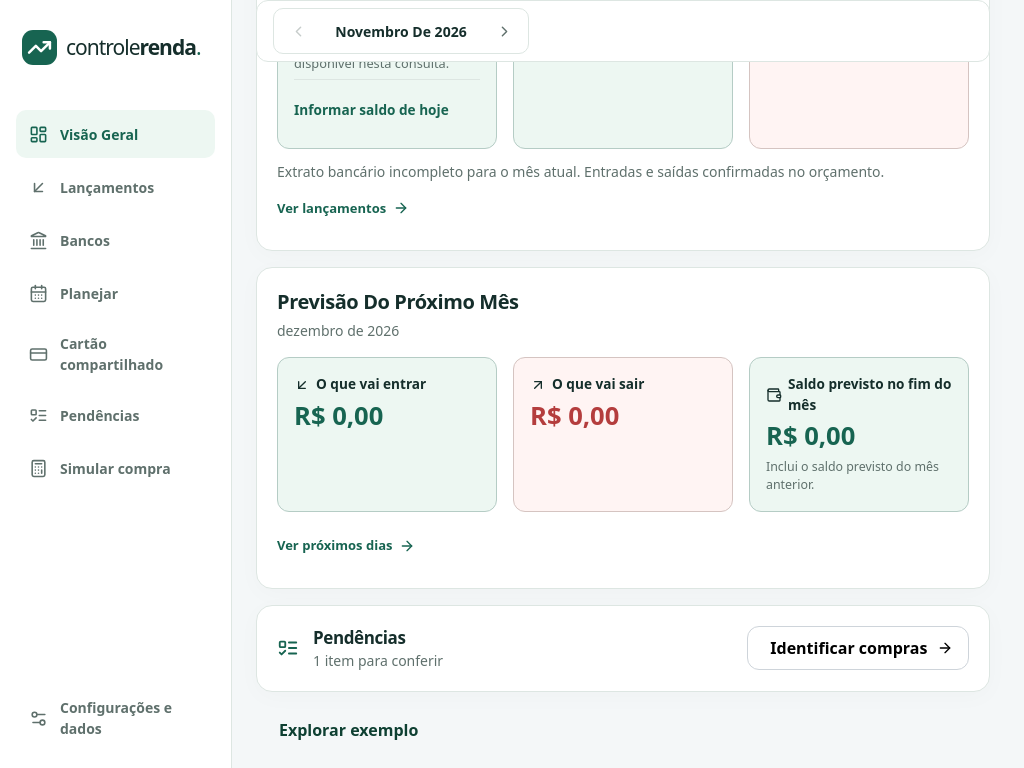
Test: reúne compras conectadas sem responsável e atualiza a contagem depois de salvar
(page scrolled)
Expected: the text "1 item para conferir" is shown, [313,651,443,670]
Click the button "Identificar compras". click: (858, 648)
box: [747,626,969,670]
(page scrolled)
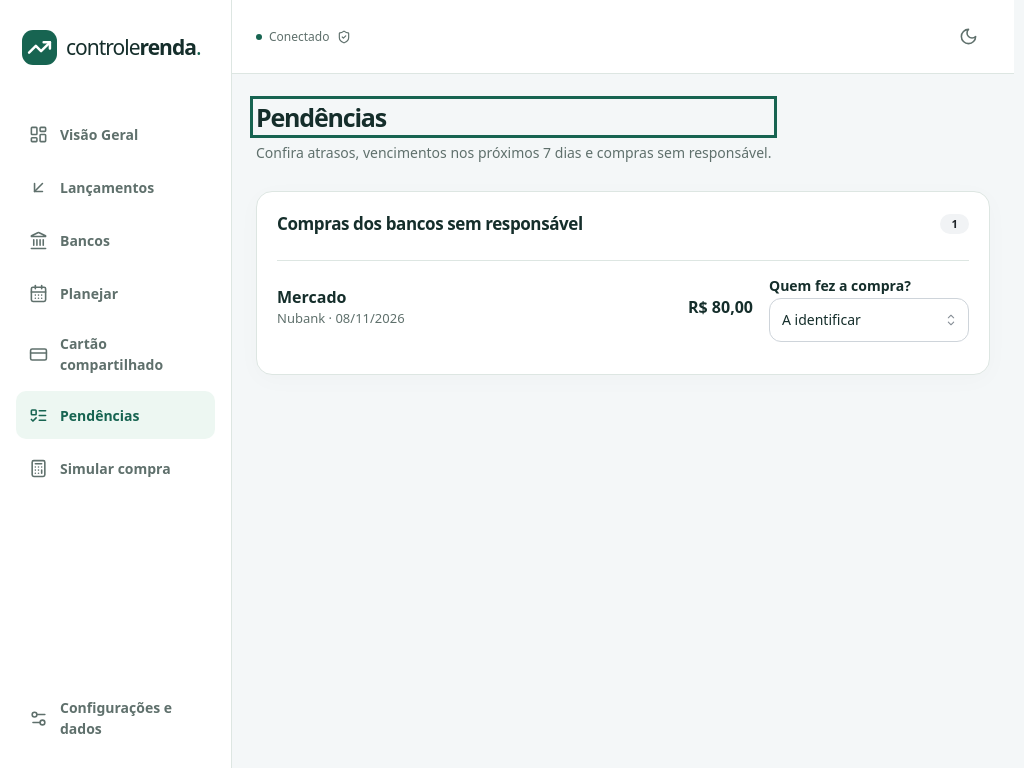
Expected: the text "Nubank" is shown, [277,309,325,327]
Select "Minha mãe" in the dropdown named "Responsável por Mercado". click: (869, 320)
box: [769,298,969,342]
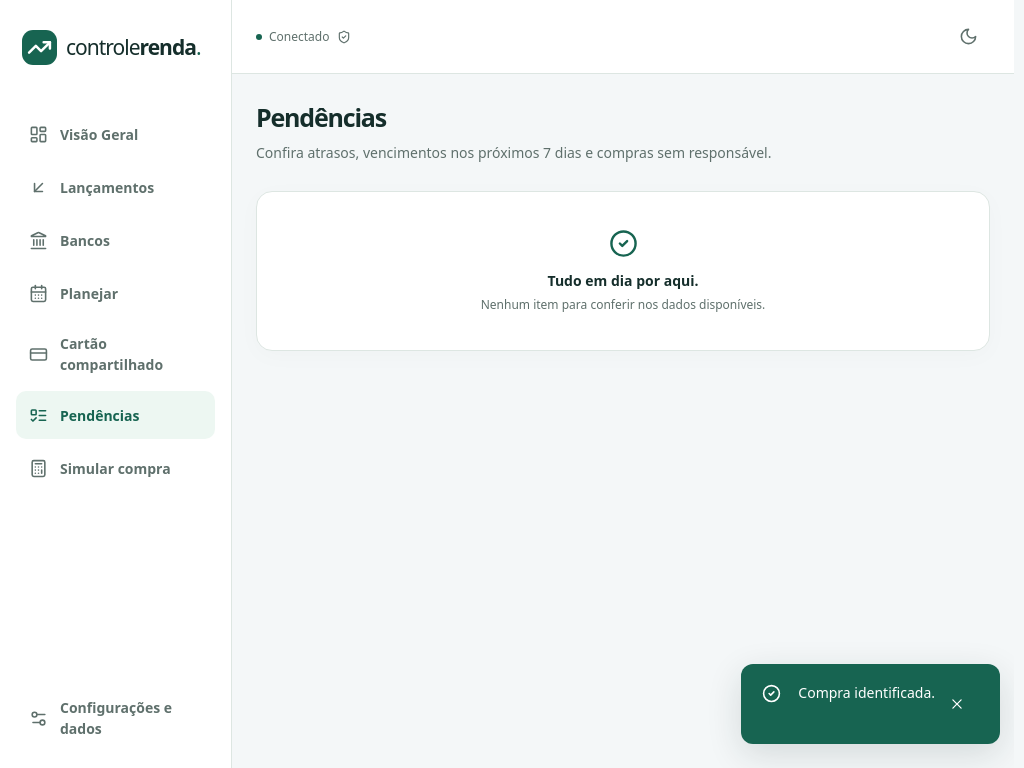
Expected: the text "Tudo em dia por aqui." is shown, [548,270,698,290]
Click the button "Visão Geral". click: (116, 134)
box: [16,110,215,158]
(page scrolled)
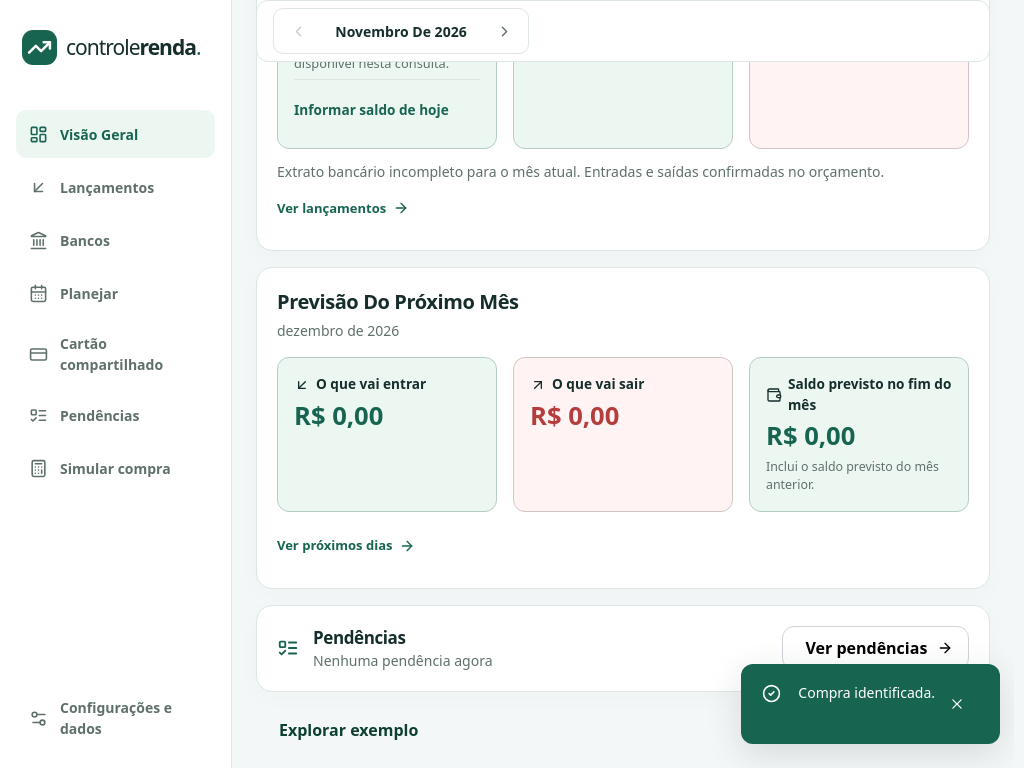
Expected: the text "Nenhuma pendência agora" is shown, [313,651,492,670]
